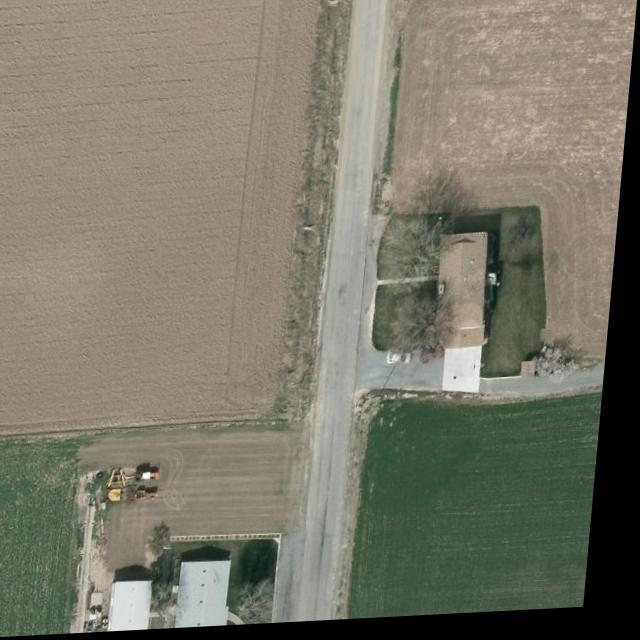vehicle: (425, 351, 453, 368), (393, 356, 420, 370)
